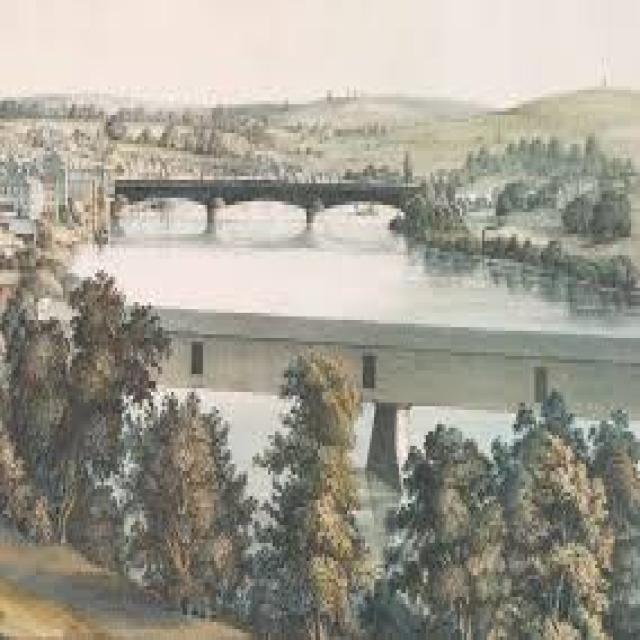Bridges: (56, 115, 443, 284)
